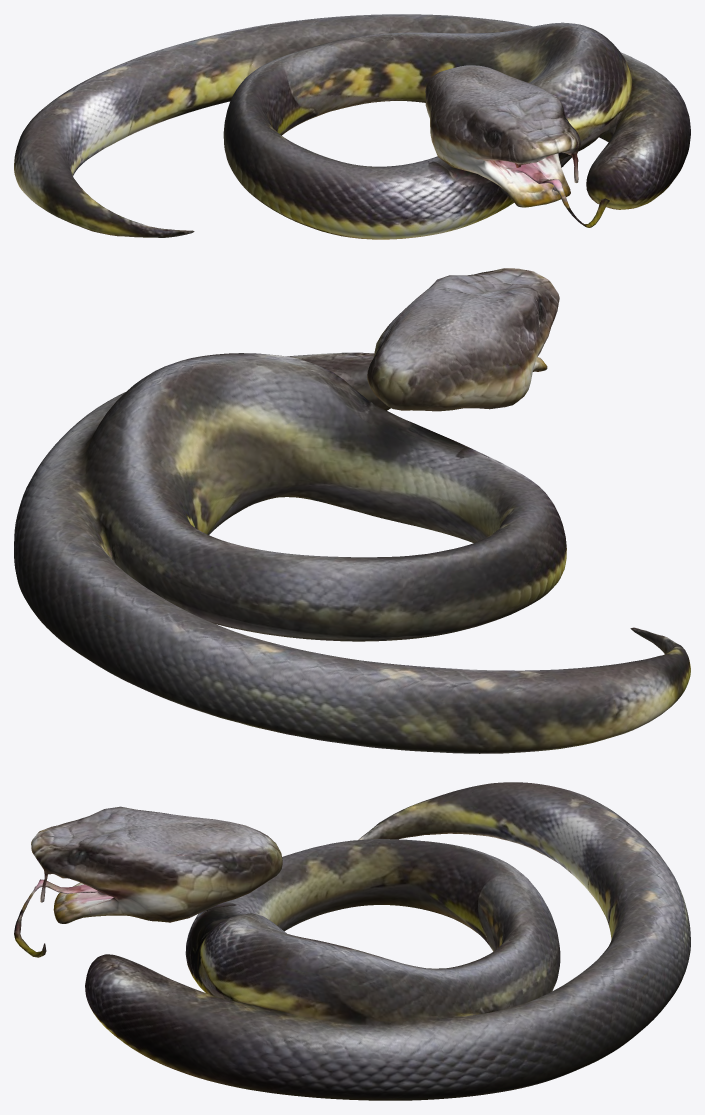
The model's file is poisonous-snake.glb.
3 renders of one model, top to bottom at view 1: azimuth 30°, elevation 25°; view 2: azimuth 150°, elevation 25°; view 3: azimuth 270°, elevation 25°, orthographic. The views are drawn at different scales.
Bounding box in the file's own units: 2 × 0.527 × 1.92.
1 material, 1 textured.
